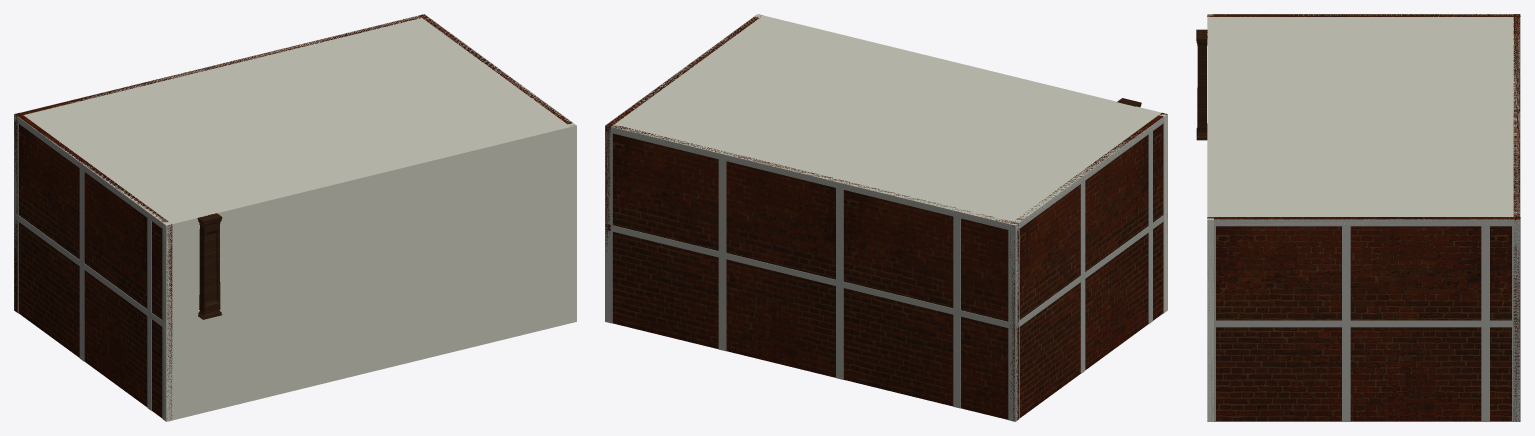
File: building.glb
The picture shows the model from 3 angles, left to right: view 1: azimuth 30°, elevation 25°; view 2: azimuth 150°, elevation 25°; view 3: azimuth 270°, elevation 25°; orthographic projection. The views are drawn at different scales.
Visible parts, largest first — view 1: house:0/edge0/z0/house:0/edge0/z0/wall_0_0, roof/house:0/roof_slab#0001, house:0/edge3/z0/house:0/edge3/z0/wall_0_0, house:0/edge2/z0/house:0/edge2/z0/wall_0_0, vertical_member/madera_joinery_pilaster/member_shaft#0001, house:0/edge3/z0/house:0/edge3/z0/beam_0_0, house:0/edge3/z0/house:0/edge3/z0/beam_1_0, house:0/edge1/z0/house:0/edge1/z0/wall_0_0, house:0/edge3/z0/house:0/edge3/z0/column_2_1, house:0/edge3/z0/house:0/edge3/z0/column_2_0; view 2: house:0/edge2/z0/house:0/edge2/z0/wall_0_0, roof/house:0/roof_slab#0001, house:0/edge3/z0/house:0/edge3/z0/wall_0_0, house:0/edge2/z0/house:0/edge2/z0/beam_0_0, house:0/edge2/z0/house:0/edge2/z0/beam_1_0, house:0/edge0/z0/house:0/edge0/z0/wall_0_0, house:0/edge1/z0/house:0/edge1/z0/wall_0_0, house:0/edge3/z0/house:0/edge3/z0/beam_0_0, house:0/edge3/z0/house:0/edge3/z0/beam_1_0, house:0/edge2/z0/house:0/edge2/z0/column_2_0, house:0/edge2/z0/house:0/edge2/z0/column_2_1, house:0/edge2/z0/house:0/edge2/z0/column_3_0 (+9 smaller); view 3: roof/house:0/roof_slab#0001, house:0/edge1/z0/house:0/edge1/z0/wall_0_0, house:0/edge0/z0/house:0/edge0/z0/wall_0_0, house:0/edge1/z0/house:0/edge1/z0/beam_0_0, house:0/edge2/z0/house:0/edge2/z0/wall_0_0, house:0/edge1/z0/house:0/edge1/z0/beam_1_0, house:0/edge3/z0/house:0/edge3/z0/wall_0_0, vertical_member/madera_joinery_pilaster/member_shaft#0001, house:0/edge1/z0/house:0/edge1/z0/column_2_0, house:0/edge1/z0/house:0/edge1/z0/column_2_1, house:0/edge1/z0/house:0/edge1/z0/column_3_0, house:0/edge1/z0/house:0/edge1/z0/column_3_1 (+4 smaller).
Part boxes in pixels (bbox=[...]): house:0/edge0/z0/house:0/edge0/z0/wall_0_0: bbox=[163, 123, 576, 421]; roof/house:0/roof_slab#0001: bbox=[14, 15, 576, 228]; house:0/edge3/z0/house:0/edge3/z0/wall_0_0: bbox=[15, 112, 172, 419]; house:0/edge2/z0/house:0/edge2/z0/wall_0_0: bbox=[14, 15, 425, 312]; vertical_member/madera_joinery_pilaster/member_shaft#0001: bbox=[199, 224, 220, 311]; house:0/edge3/z0/house:0/edge3/z0/beam_0_0: bbox=[14, 213, 166, 328]; house:0/edge3/z0/house:0/edge3/z0/beam_1_0: bbox=[14, 114, 166, 231]; house:0/edge1/z0/house:0/edge1/z0/wall_0_0: bbox=[419, 14, 573, 125]; house:0/edge3/z0/house:0/edge3/z0/column_2_1: bbox=[79, 267, 84, 361]; house:0/edge3/z0/house:0/edge3/z0/column_2_0: bbox=[79, 168, 84, 262]; house:0/edge2/z0/house:0/edge2/z0/wall_0_0: bbox=[612, 125, 1018, 420]; roof/house:0/roof_slab#0001: bbox=[609, 15, 1164, 228]; house:0/edge3/z0/house:0/edge3/z0/wall_0_0: bbox=[1010, 112, 1166, 420]; house:0/edge2/z0/house:0/edge2/z0/beam_0_0: bbox=[605, 225, 1015, 329]; house:0/edge2/z0/house:0/edge2/z0/beam_1_0: bbox=[605, 126, 1015, 231]; house:0/edge0/z0/house:0/edge0/z0/wall_0_0: bbox=[754, 14, 1167, 312]; house:0/edge1/z0/house:0/edge1/z0/wall_0_0: bbox=[605, 14, 762, 250]; house:0/edge3/z0/house:0/edge3/z0/beam_0_0: bbox=[1015, 212, 1167, 329]; house:0/edge3/z0/house:0/edge3/z0/beam_1_0: bbox=[1015, 117, 1164, 230]; house:0/edge2/z0/house:0/edge2/z0/column_2_0: bbox=[718, 159, 726, 252]; house:0/edge2/z0/house:0/edge2/z0/column_2_1: bbox=[718, 257, 726, 351]; house:0/edge2/z0/house:0/edge2/z0/column_3_0: bbox=[836, 188, 843, 281]; roof/house:0/roof_slab#0001: bbox=[1207, 14, 1520, 224]; house:0/edge1/z0/house:0/edge1/z0/wall_0_0: bbox=[1207, 217, 1520, 421]; house:0/edge0/z0/house:0/edge0/z0/wall_0_0: bbox=[1207, 14, 1213, 421]; house:0/edge1/z0/house:0/edge1/z0/beam_0_0: bbox=[1208, 320, 1520, 327]; house:0/edge2/z0/house:0/edge2/z0/wall_0_0: bbox=[1513, 14, 1519, 421]; house:0/edge1/z0/house:0/edge1/z0/beam_1_0: bbox=[1207, 219, 1520, 226]; house:0/edge3/z0/house:0/edge3/z0/wall_0_0: bbox=[1207, 14, 1520, 16]; vertical_member/madera_joinery_pilaster/member_shaft#0001: bbox=[1197, 46, 1207, 131]; house:0/edge1/z0/house:0/edge1/z0/column_2_0: bbox=[1342, 226, 1350, 320]; house:0/edge1/z0/house:0/edge1/z0/column_2_1: bbox=[1342, 327, 1350, 421]; house:0/edge1/z0/house:0/edge1/z0/column_3_0: bbox=[1481, 226, 1489, 320]; house:0/edge1/z0/house:0/edge1/z0/column_3_1: bbox=[1481, 327, 1489, 421].
Size of the model in its own units: 14 by 6.4 by 9.31.
4 materials, 2 textured.
